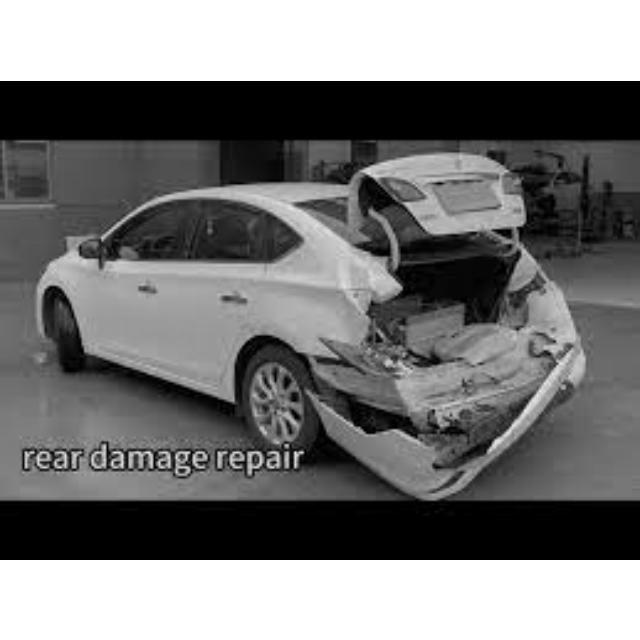Taillight-Damage: (333, 334, 445, 379), (510, 260, 563, 307)
boot-dent: (356, 164, 534, 354)
quaterpanel-dent: (309, 247, 374, 345)
rear-bumper-dent: (299, 345, 579, 457)
